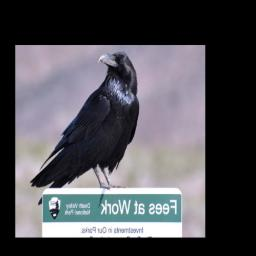Crow: (29, 51, 140, 207)
